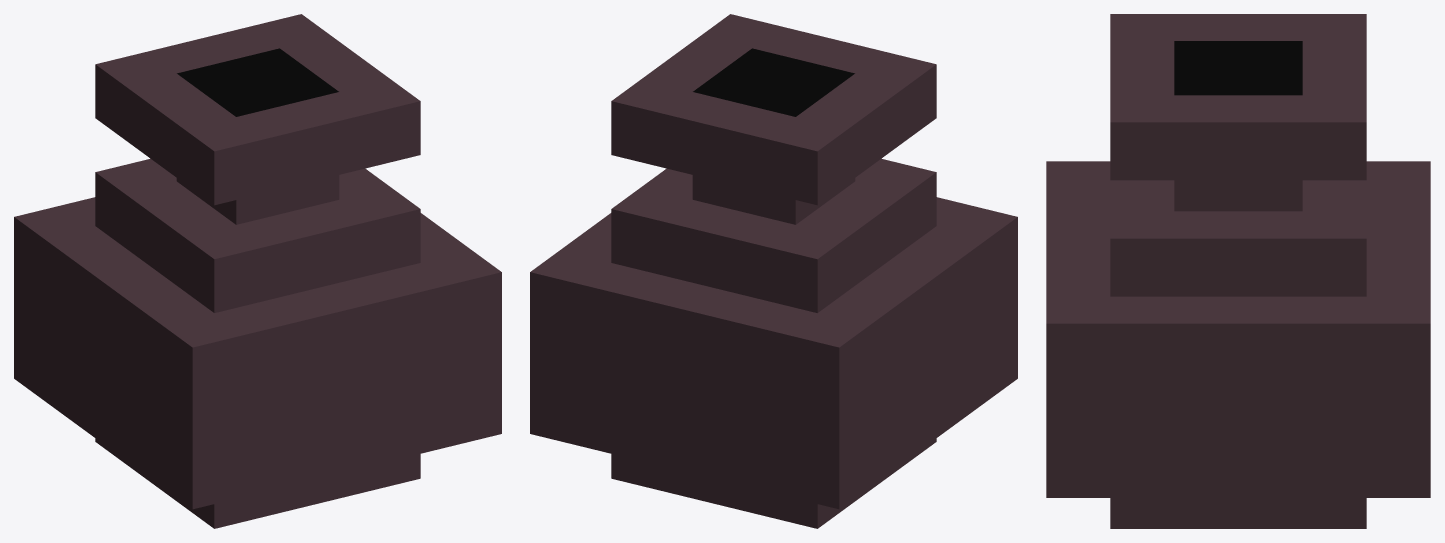
The model's file is pot_c.obj.
3 renders of one model, left to right at view 1: azimuth 30°, elevation 25°; view 2: azimuth 150°, elevation 25°; view 3: azimuth 270°, elevation 25°, orthographic. The views are drawn at different scales.
Bounding box in the file's own units: 0.6 × 0.7 × 0.6.
Materials: 1 (1 with a texture image).
